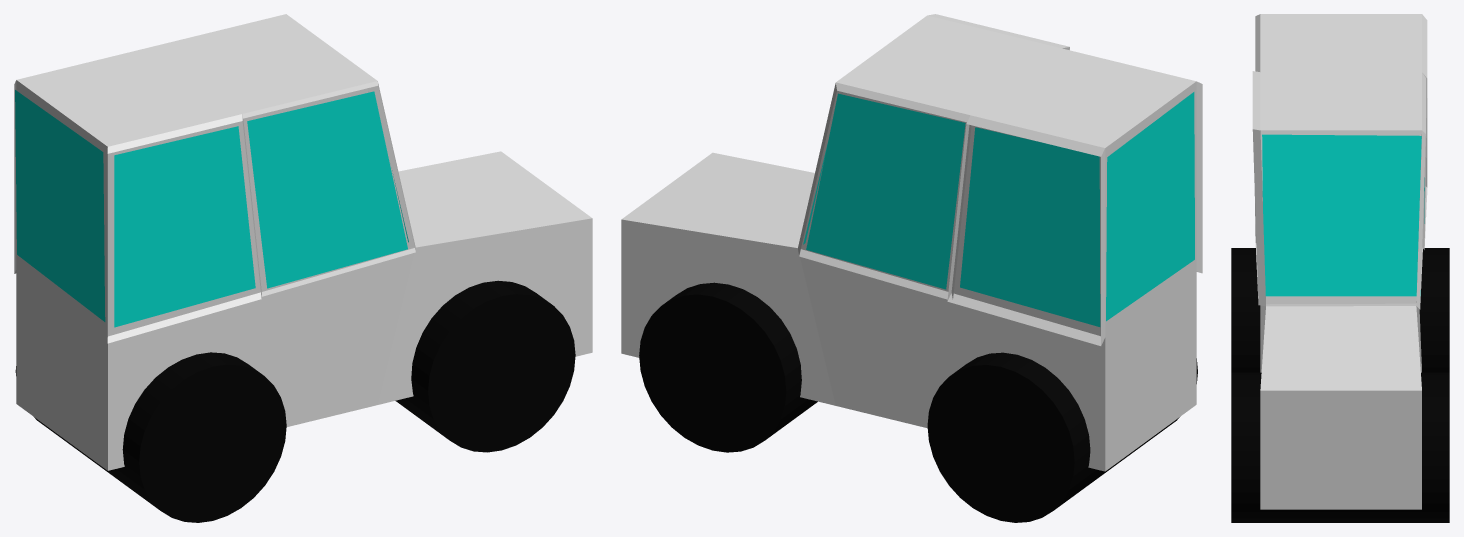
Rendered from car.fbx.
The picture shows the model from 3 angles, left to right: view 1: azimuth 30°, elevation 25°; view 2: azimuth 150°, elevation 25°; view 3: azimuth 270°, elevation 25°; orthographic projection. The views are drawn at different scales.
Parts seen in each view (by area): view 1: Cube, Plane.001, Plane.003, Cylinder.001, Cylinder.002, Plane.005; view 2: Cube, Plane.002, Plane.004, Cylinder.002, Cylinder.001, Plane.005; view 3: Cube, Plane.006, Cylinder.001, Cylinder.002.
Boxes of the visible parts, <box> form: Cube: <box>14,14,592,470</box>; Plane.001: <box>247,91,407,288</box>; Plane.003: <box>114,126,255,327</box>; Cylinder.001: <box>395,280,575,452</box>; Cylinder.002: <box>15,352,286,522</box>; Plane.005: <box>15,90,105,321</box>; Cube: <box>621,14,1202,471</box>; Plane.002: <box>806,93,965,289</box>; Plane.004: <box>960,127,1100,326</box>; Cylinder.002: <box>927,352,1197,522</box>; Cylinder.001: <box>639,282,817,452</box>; Plane.005: <box>1106,92,1194,321</box>; Cube: <box>1252,14,1427,509</box>; Plane.006: <box>1262,134,1421,296</box>; Cylinder.001: <box>1231,372,1449,522</box>; Cylinder.002: <box>1231,248,1449,372</box>.
Bounding box in the file's own units: 661 × 497 × 290.
